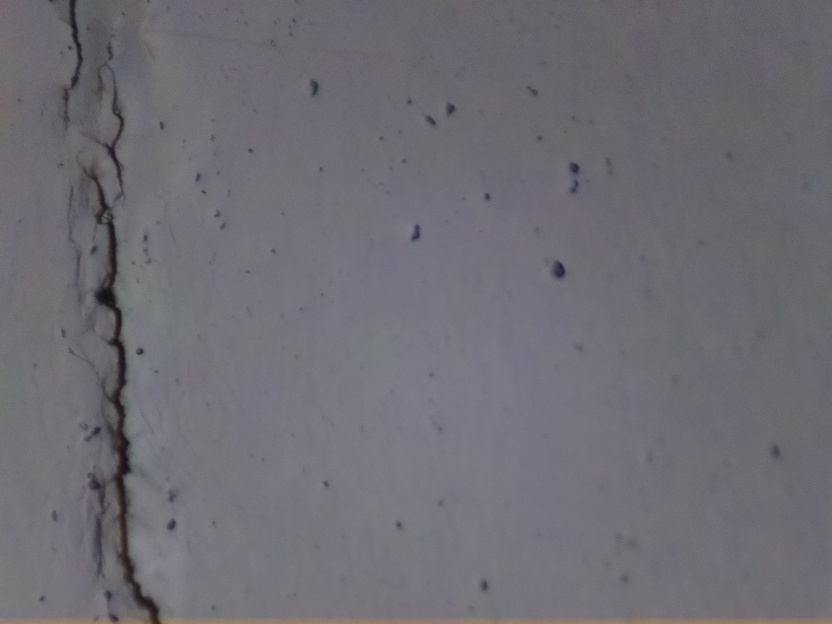crack: (78, 68, 163, 624), (54, 0, 84, 133)
